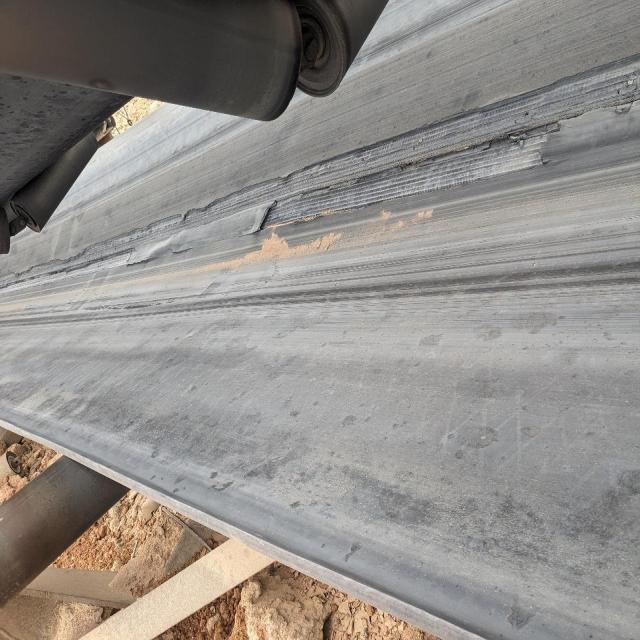Tear: (0, 50, 640, 298)
